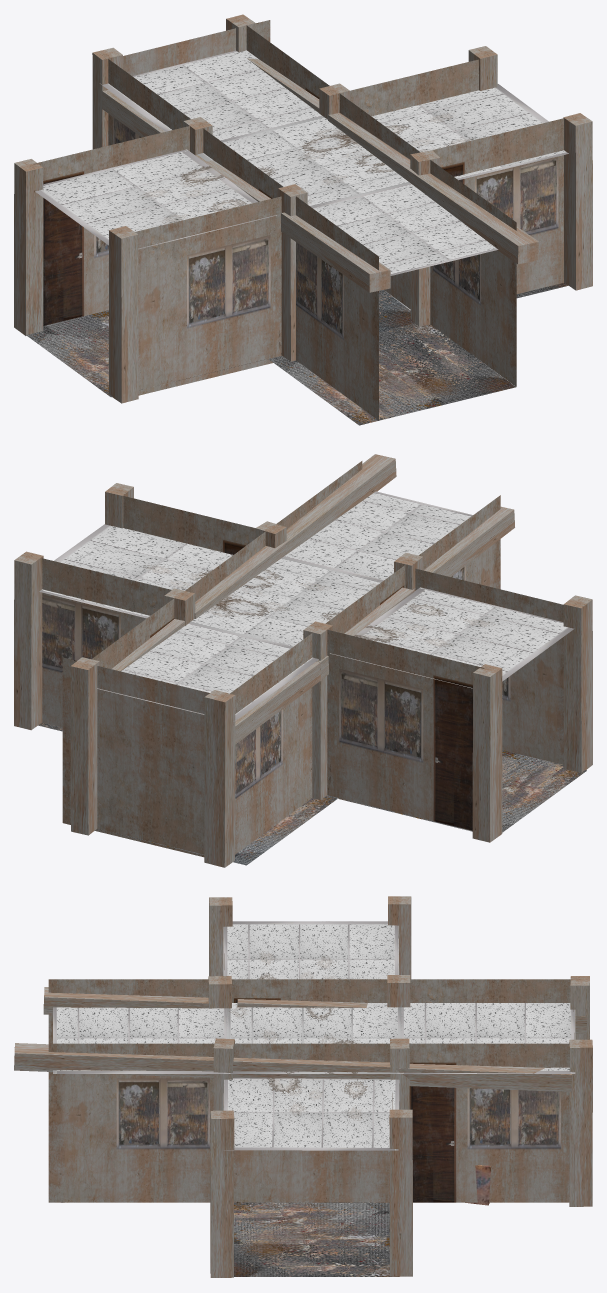
File: supply_end.gltf
3 renders of one model, top to bottom at view 1: azimuth 30°, elevation 25°; view 2: azimuth 150°, elevation 25°; view 3: azimuth 270°, elevation 25°, orthographic. The views are drawn at different scales.
Parts seen in each view (by area): view 1: center_left_back_wall.001, front_left_wall, center_right_back_wall, cieling_center_left, floor_front, center_left_back_wall, front_right_wall, cieling_back, cieling_front, cieling_center, cieling_center_right, center_pillar_left.001 (+23 smaller); view 2: center_left_back_wall, back_pannel, back_left_wall, cieling_center_left, center_right_back_wall.001, cieling_center, center_left_back_wall.001, cieling_front, cieling_back, cieling_center_right, back_left_pillar, center_left_pillar.001 (+22 smaller); view 3: front_right_wall, back_right_wall, cieling_center_right, floor_center_right, center_right_panel, cieling_center_left, cieling_back, cieling_center, cieling_front, center_pillar_left.002, front_right_support_beam, center_left_pillar.002 (+16 smaller).
Part boxes in pixels (x1=…): center_left_back_wall.001: x1=135, y1=196, x2=281, y2=395; front_left_wall: x1=296, y1=196, x2=378, y2=420; center_right_back_wall: x1=432, y1=118, x2=563, y2=293; cieling_center_left: x1=35, y1=149, x2=276, y2=249; floor_front: x1=268, y1=323, x2=515, y2=425; center_left_back_wall: x1=33, y1=126, x2=189, y2=325; front_right_wall: x1=430, y1=160, x2=516, y2=386; cieling_back: x1=100, y1=50, x2=322, y2=140; cieling_front: x1=311, y1=183, x2=498, y2=275; cieling_center: x1=197, y1=116, x2=410, y2=206; cieling_center_right: x1=371, y1=83, x2=568, y2=180; center_pillar_left.001: x1=109, y1=226, x2=138, y2=403; center_left_back_wall: x1=327, y1=629, x2=484, y2=830; back_pannel: x1=62, y1=657, x2=209, y2=857; back_left_wall: x1=230, y1=633, x2=312, y2=854; cieling_center_left: x1=330, y1=587, x2=574, y2=688; center_right_back_wall.001: x1=42, y1=558, x2=171, y2=727; cieling_center: x1=189, y1=557, x2=413, y2=647; center_left_back_wall.001: x1=415, y1=568, x2=563, y2=764; cieling_front: x1=283, y1=491, x2=472, y2=589; cieling_back: x1=97, y1=623, x2=318, y2=721; cieling_center_right: x1=39, y1=524, x2=232, y2=618; back_left_pillar: x1=204, y1=690, x2=235, y2=867; center_left_pillar.001: x1=472, y1=664, x2=502, y2=842; front_right_wall: x1=48, y1=1043, x2=214, y2=1202; back_right_wall: x1=409, y1=1043, x2=569, y2=1202; cieling_center_right: x1=223, y1=1078, x2=399, y2=1150; floor_center_right: x1=234, y1=1202, x2=399, y2=1276; center_right_panel: x1=234, y1=1043, x2=389, y2=1202; cieling_center_left: x1=223, y1=921, x2=398, y2=979; cieling_back: x1=400, y1=1003, x2=575, y2=1073; cieling_center: x1=226, y1=1003, x2=402, y2=1073; cieling_front: x1=53, y1=1007, x2=228, y2=1073; center_pillar_left.002: x1=210, y1=1110, x2=234, y2=1277; front_right_support_beam: x1=14, y1=1043, x2=213, y2=1077; center_left_pillar.002: x1=389, y1=1109, x2=412, y2=1276.
Size of the model in its own units: 6.06 by 2.07 by 6.6.
11 materials, 11 textured.
